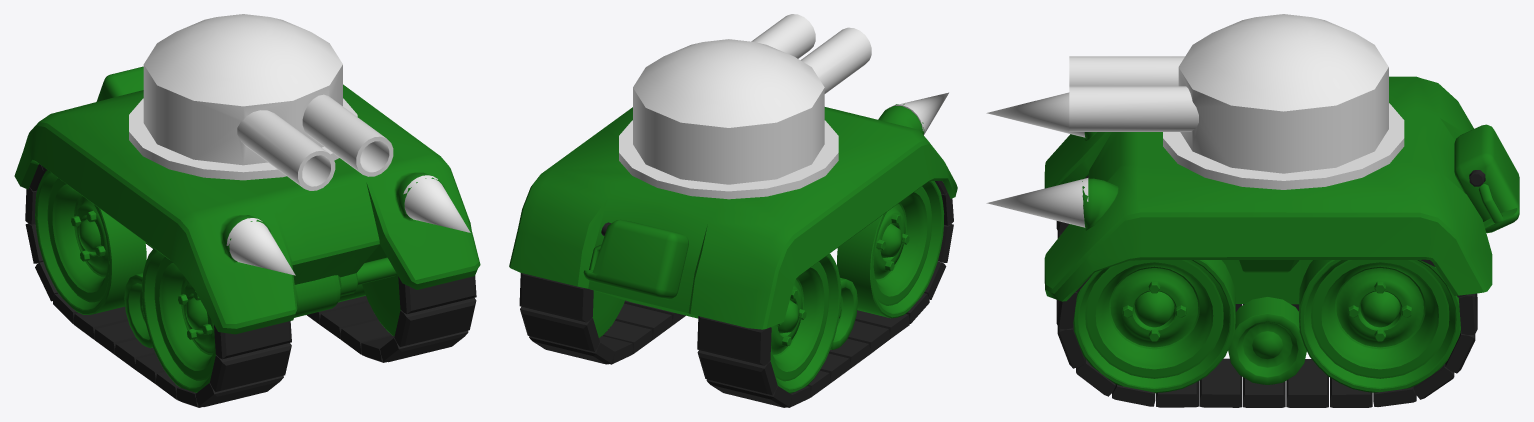
File: Gaterling.FBX
3 views of the same model, side by side, from view 1: azimuth 30°, elevation 25°; view 2: azimuth 150°, elevation 25°; view 3: azimuth 270°, elevation 25° (orthographic). The views are drawn at different scales.
Visible parts, largest first — view 1: TankChassis, OilTank001, TankTracksRight, TankTracksLeft; view 2: TankChassis, OilTank001, TankTracksRight, TankTracksLeft; view 3: TankChassis, TankTracksLeft, OilTank001.
Boxes of the visible parts, x1=… form: TankChassis: x1=14, y1=66, x2=480, y2=348; OilTank001: x1=129, y1=14, x2=470, y2=275; TankTracksRight: x1=25, y1=164, x2=291, y2=407; TankTracksLeft: x1=307, y1=244, x2=476, y2=362; TankChassis: x1=509, y1=104, x2=957, y2=349; OilTank001: x1=619, y1=14, x2=948, y2=199; TankTracksRight: x1=697, y1=181, x2=953, y2=407; TankTracksLeft: x1=519, y1=273, x2=685, y2=364; TankChassis: x1=1044, y1=76, x2=1519, y2=384; TankTracksLeft: x1=1056, y1=259, x2=1477, y2=407; OilTank001: x1=986, y1=14, x2=1404, y2=227.
Size of the model in its own units: 67 by 68.46 by 105.
